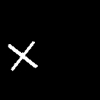single_crochet: (9, 42, 36, 70)
